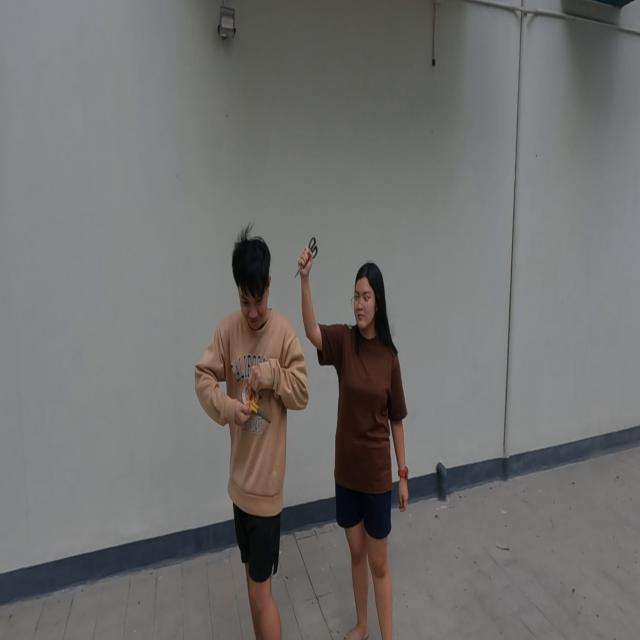scissor: (295, 237, 318, 279), (244, 390, 272, 424)
